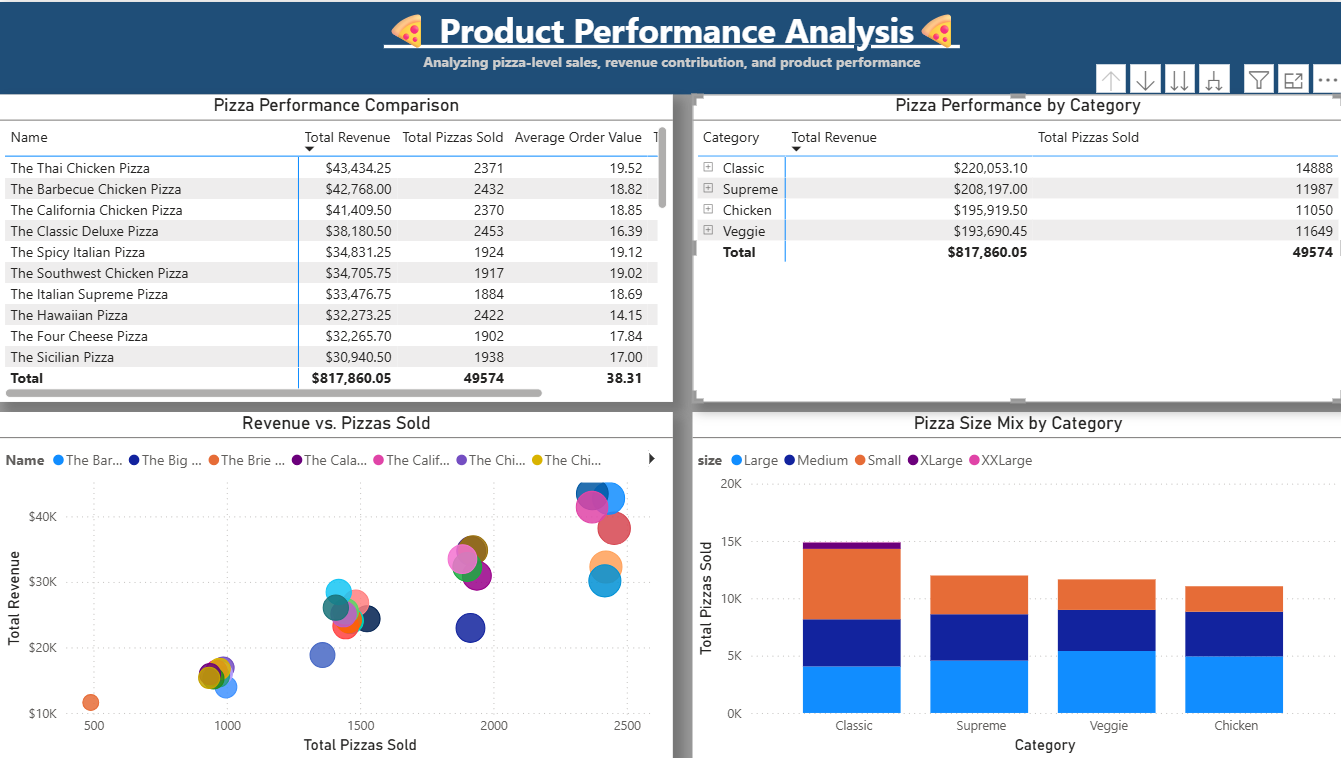

This screenshot's page, from the dashboard's own definition file:
{"tool":"powerbi","page":{"name":"🍕 Product Performance","canvas":[1280,720],"ordinal":2},"visuals":[{"type":"textbox","box":[0,0,1279.8,87.6],"z":0},{"type":"pivotTable","title":"Pizza Performance Comparison","fields":{"Rows":["Pizza_Types.Name"],"Values":["Order_Details.Total Revenue","Order_Details.Total Pizzas Sold","Order_Details.Average Order Value","Order_Details.Total Orders"]},"box":[0,87.6,640.4,319.1],"z":1},{"type":"scatterChart","title":"Revenue vs. Pizzas Sold","fields":{"X":["Order_Details.Total Pizzas Sold"],"Y":["Order_Details.Total Revenue"],"Size":["Order_Details.Total Orders"],"Series":["Pizza_Types.Name"]},"box":[0,417,640,303],"z":2},{"type":"pivotTable","title":"Pizza Performance by Category","fields":{"Rows":["Pizza_Types.Category","Pizza_Types.Name"],"Values":["Order_Details.Total Revenue","Order_Details.Total Pizzas Sold"]},"box":[659.6,87.6,620.2,246.1],"z":3},{"type":"columnChart","title":"Pizza Size Mix by Category","fields":{"Category":["Pizza_Types.Category"],"Y":["Order_Details.Total Pizzas Sold"],"Series":["Pizzas.size"]},"box":[659.6,342.7,620.2,377.5],"z":4}]}

Visuals, with their boxes in screenshot pixels (x1, y1, x2, y2), scaled from the page's 1280x720 canvas onto the 1341x758 screenshot:
textbox: detection(0, 0, 1340, 92)
"Pizza Performance Comparison" pivotTable: detection(0, 92, 671, 428)
"Revenue vs. Pizzas Sold" scatterChart: detection(0, 439, 670, 757)
"Pizza Performance by Category" pivotTable: detection(691, 92, 1340, 351)
"Pizza Size Mix by Category" columnChart: detection(691, 361, 1340, 757)
